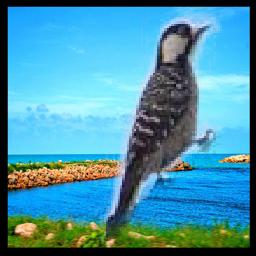Woodpecker: (94, 7, 222, 247)
